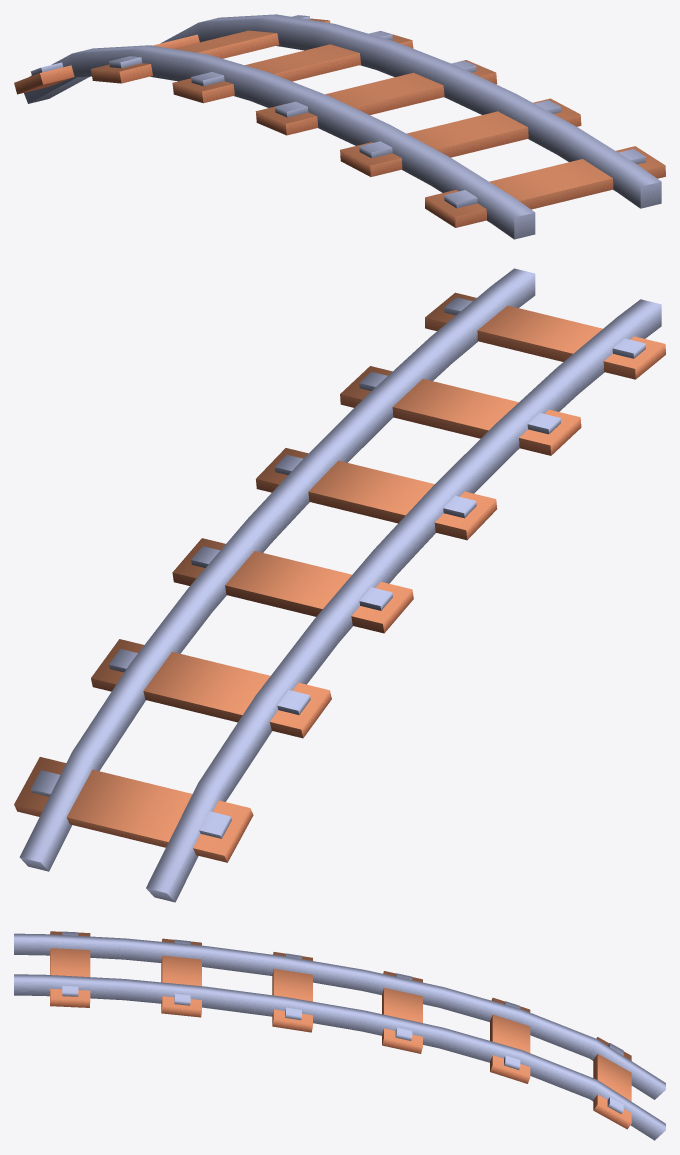
Rendered from railroad-straight-hill-end.glb.
3 renders of one model, top to bottom at view 1: azimuth 30°, elevation 25°; view 2: azimuth 150°, elevation 25°; view 3: azimuth 270°, elevation 25°, orthographic. The views are drawn at different scales.
Parts seen in each view (by area): view 1: railroad-straight-hill-end; view 2: railroad-straight-hill-end; view 3: railroad-straight-hill-end.
Boxes of the visible parts, box(x1,y1,x2,y2) form: railroad-straight-hill-end: box(14, 14, 665, 239); railroad-straight-hill-end: box(14, 268, 665, 902); railroad-straight-hill-end: box(14, 931, 665, 1140).
Bounding box in the file's own units: 1 × 1.1 × 4.07.
1 material, 1 textured.
